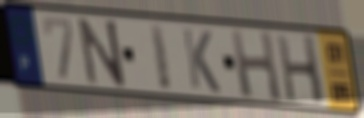7: (39, 14, 76, 83)
H: (228, 27, 285, 105), (274, 33, 328, 108)
I: (147, 21, 174, 93)
K: (180, 25, 223, 96)
N: (76, 15, 129, 88)
